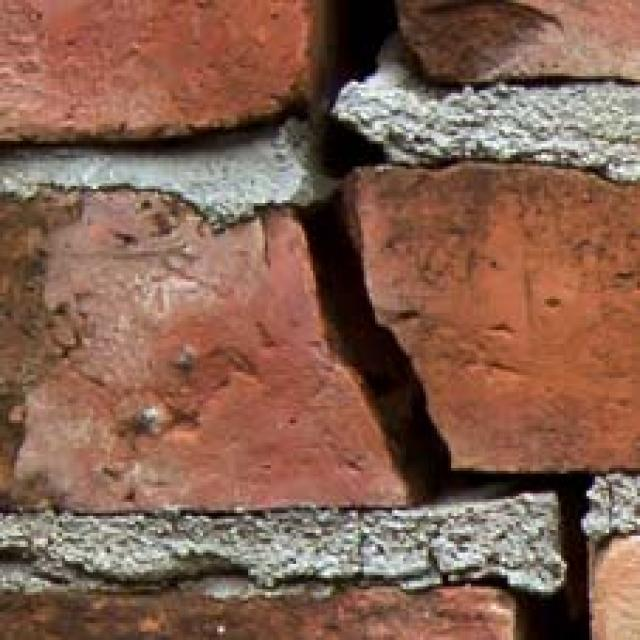Crack: (243, 0, 637, 640)
